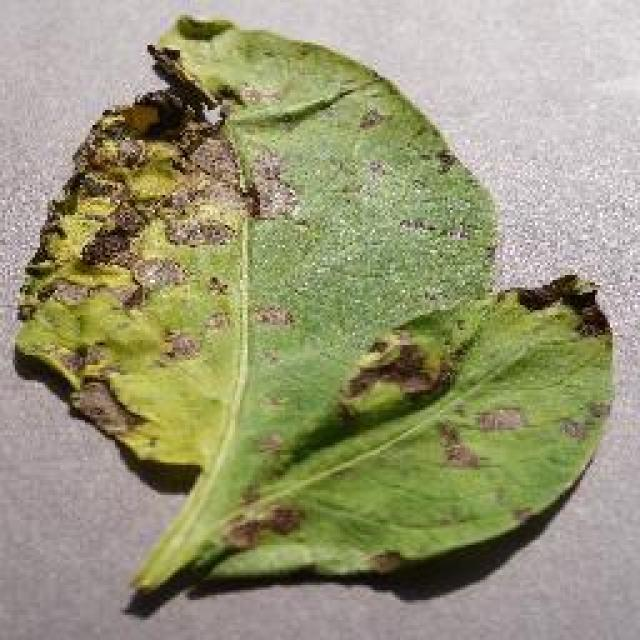early_blight: (10, 10, 618, 602)
